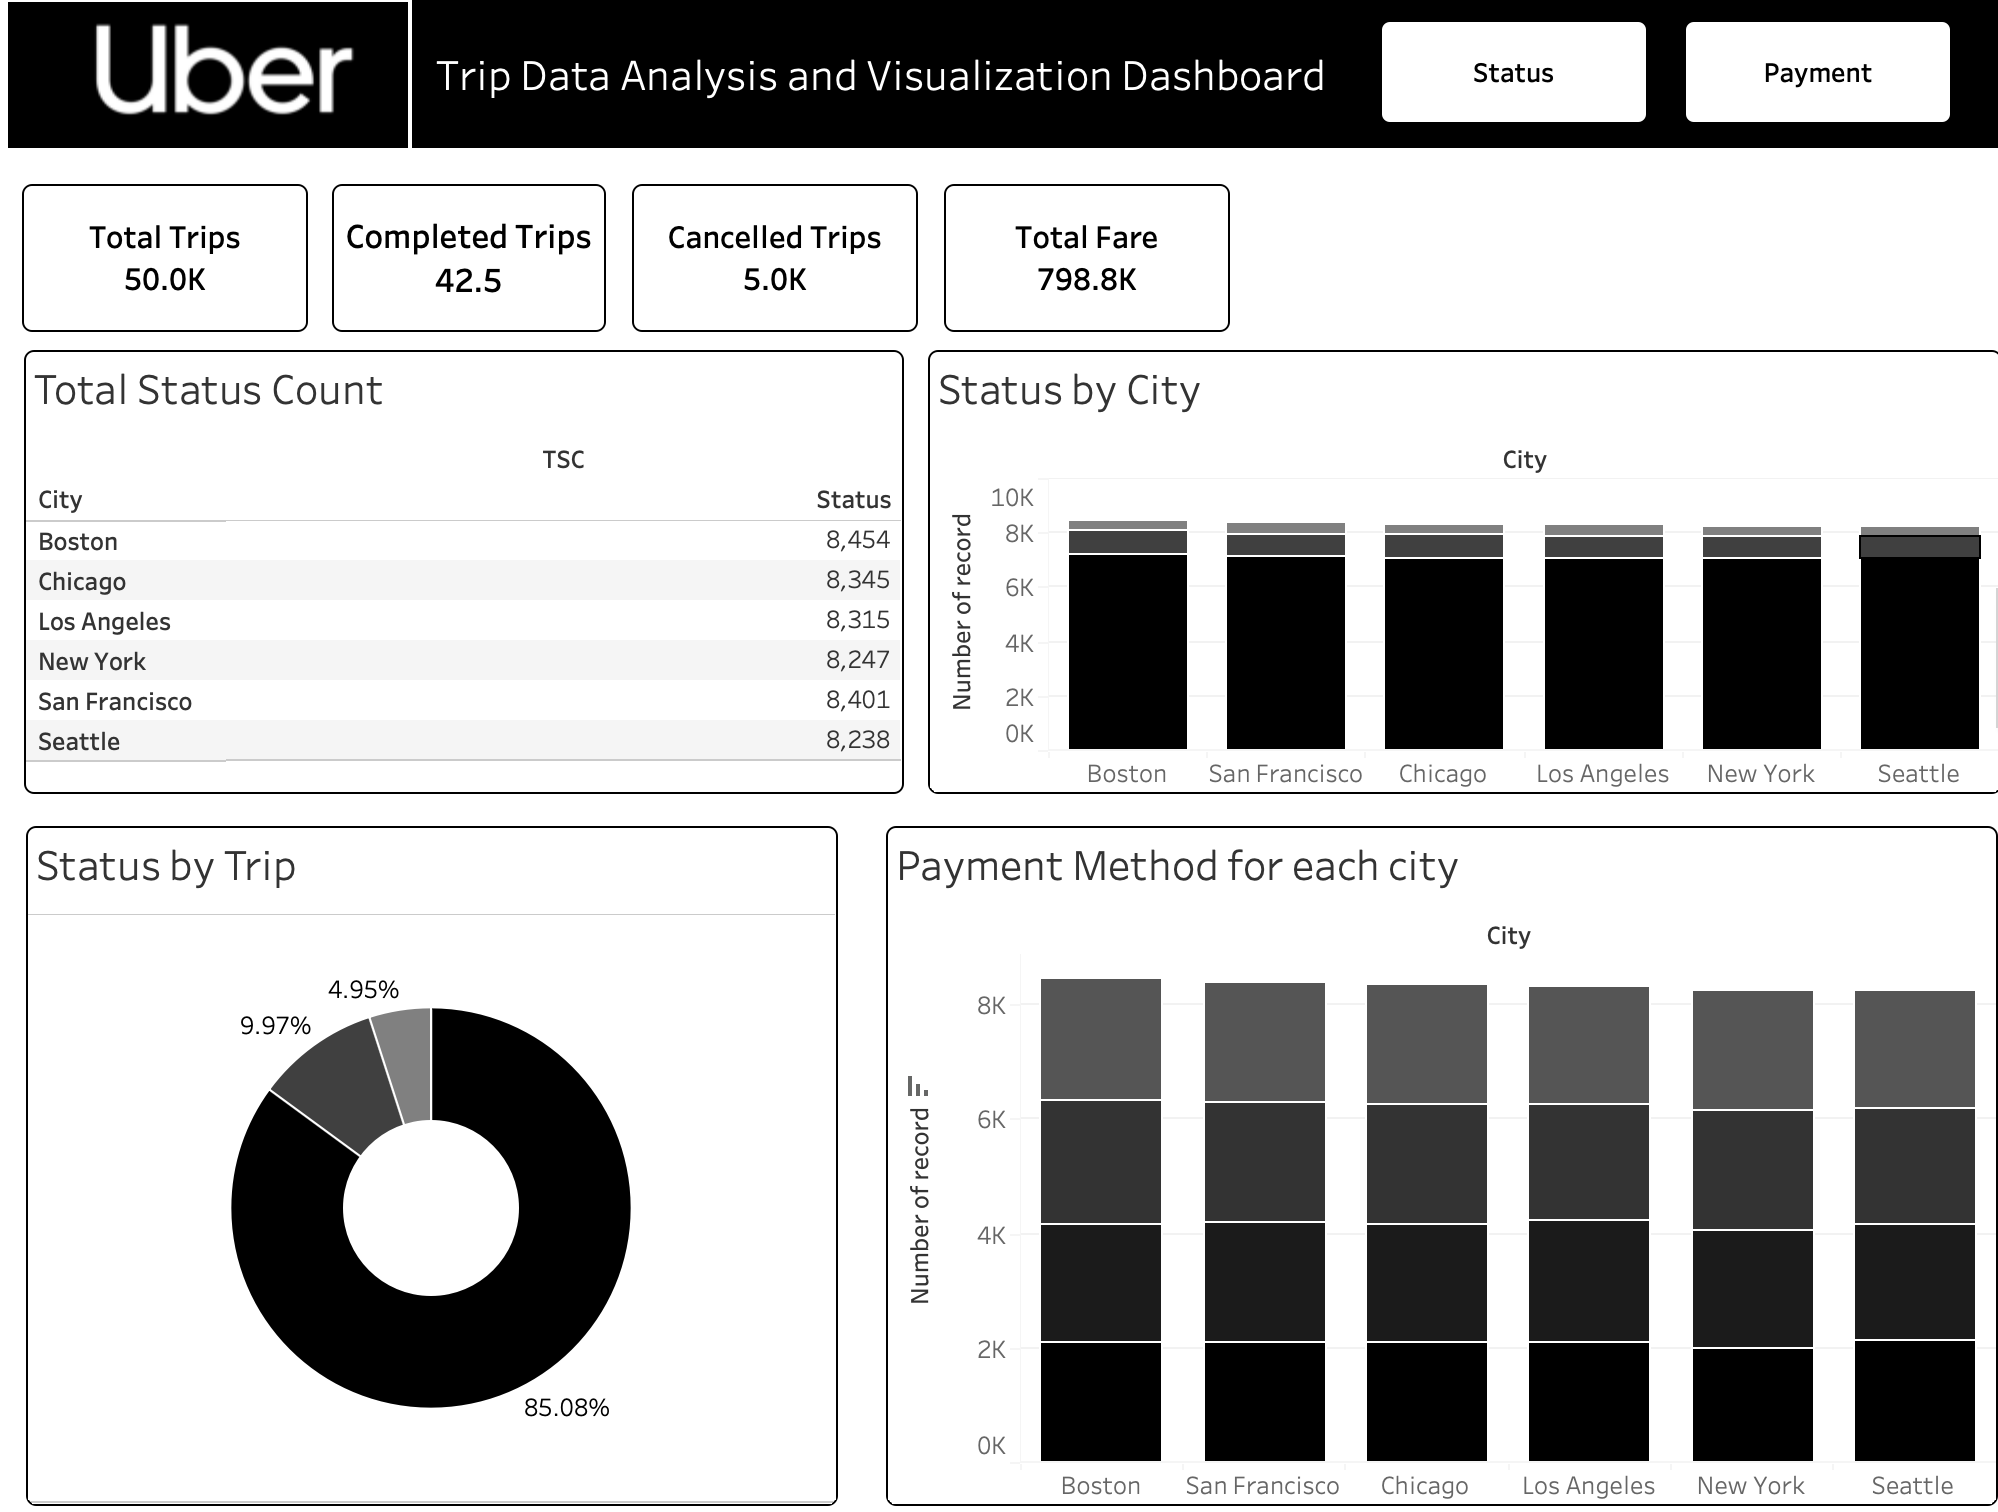

The dashboard page shown, as its layout file describes it:
{"tool":"tableau","page":{"name":"Dashboard 2","canvas":[1000,800],"ordinal":1},"visuals":[{"type":"image","param":"Image/Screenshot 2026-03-15 at 1.22.16 PM.png","box":[0,0,200,100]},{"type":"text","box":[686,9,134,52]},{"type":"text","box":[838,9,134,52]},{"type":"text","box":[7,91,143,74]},{"type":"text","box":[162,91,137,74]},{"type":"text","box":[312,91,143,74]},{"type":"text","box":[468,91,143,74]},{"type":"worksheet","title":"Total Status Count","mark":"Automatic","rows":["city"],"cols":["Calculation_1939667462848540"],"box":[8,174,440,222]},{"type":"worksheet","title":"Status by City","mark":"Automatic","rows":["Calculation_1939667135426561"],"cols":["city"],"box":[460,174,537,222]},{"type":"worksheet","title":"Status by Trip","mark":"Pie","cols":["Calculation_1939667226976264","Calculation_1939667226976264"],"box":[9,412,406,340]},{"type":"worksheet","title":"Payment Method for each city","mark":"Automatic","rows":["Calculation_1939667135426561"],"cols":["city"],"box":[439,412,556,340]}]}

Visuals, with their boxes on the page's 1000x800 design canvas (x1, y1, x2, y2). These are canvas units, not pixel positions in the 1998x1512 screenshot, which may show the page scaled, cropped or inside an application window:
image: locate(0, 0, 200, 100)
text: locate(686, 9, 820, 61)
text: locate(838, 9, 972, 61)
text: locate(7, 91, 150, 165)
text: locate(162, 91, 299, 165)
text: locate(312, 91, 455, 165)
text: locate(468, 91, 611, 165)
"Total Status Count" worksheet: locate(8, 174, 448, 396)
"Status by City" worksheet: locate(460, 174, 997, 396)
"Status by Trip" worksheet (Pie marks): locate(9, 412, 415, 752)
"Payment Method for each city" worksheet: locate(439, 412, 995, 752)
